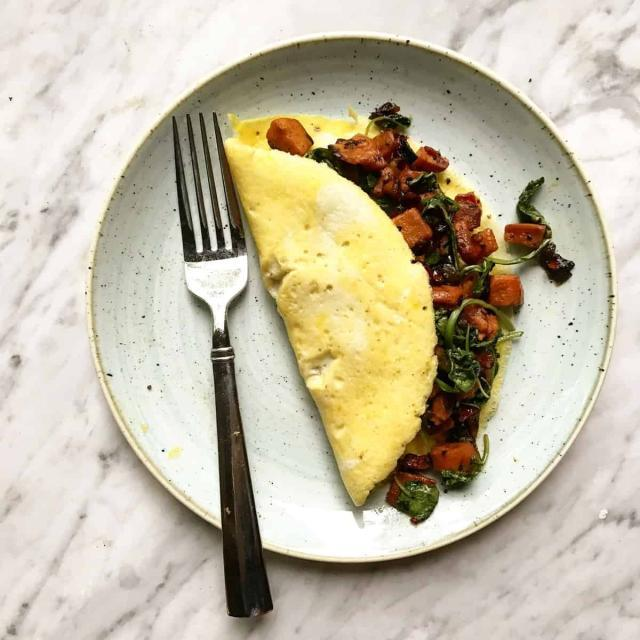telur_ayam_dadar: (220, 108, 540, 517)
